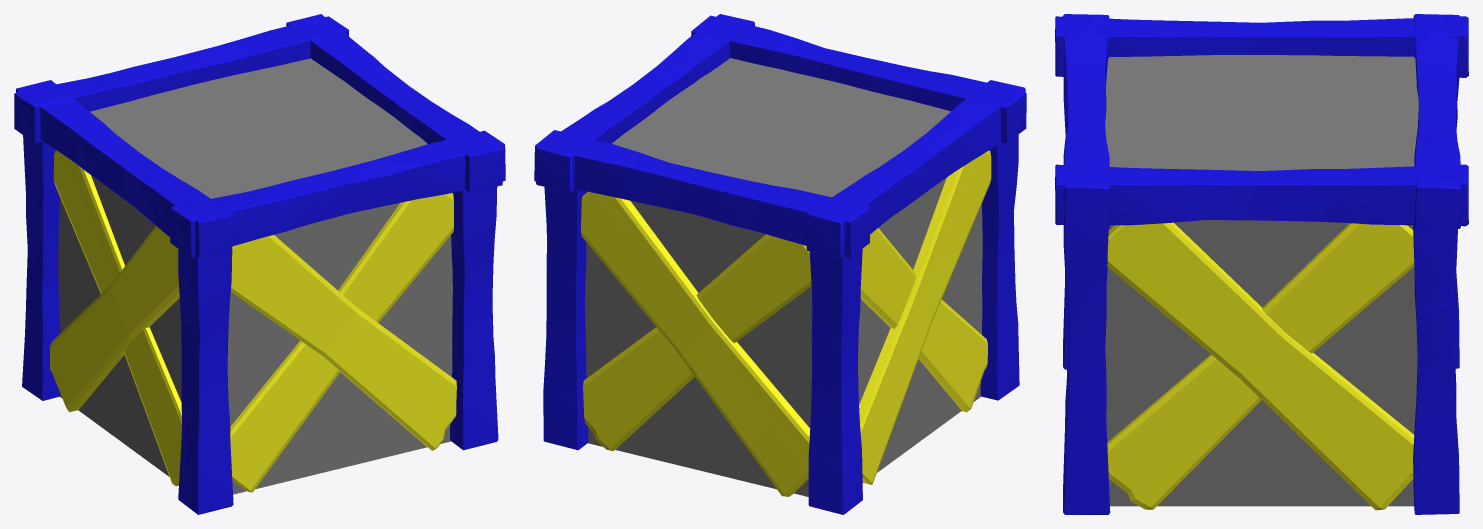
File: SM_SolidBlock.fbx
3 renders of one model, left to right at view 1: azimuth 30°, elevation 25°; view 2: azimuth 150°, elevation 25°; view 3: azimuth 270°, elevation 25°, orthographic. The views are drawn at different scales.
Visible parts, largest first — view 1: Cube; view 2: Cube; view 3: Cube.
Part boxes in pixels (left/top/right/bottom): Cube: left=14, top=14, right=505, bottom=514; Cube: left=534, top=14, right=1026, bottom=514; Cube: left=1055, top=14, right=1468, bottom=514.
Bounding box in the file's own units: 119 × 120 × 107.
